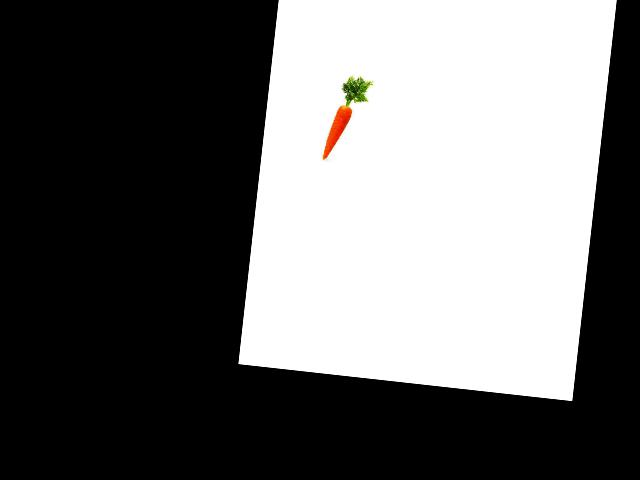carrot: (320, 101, 354, 165)
